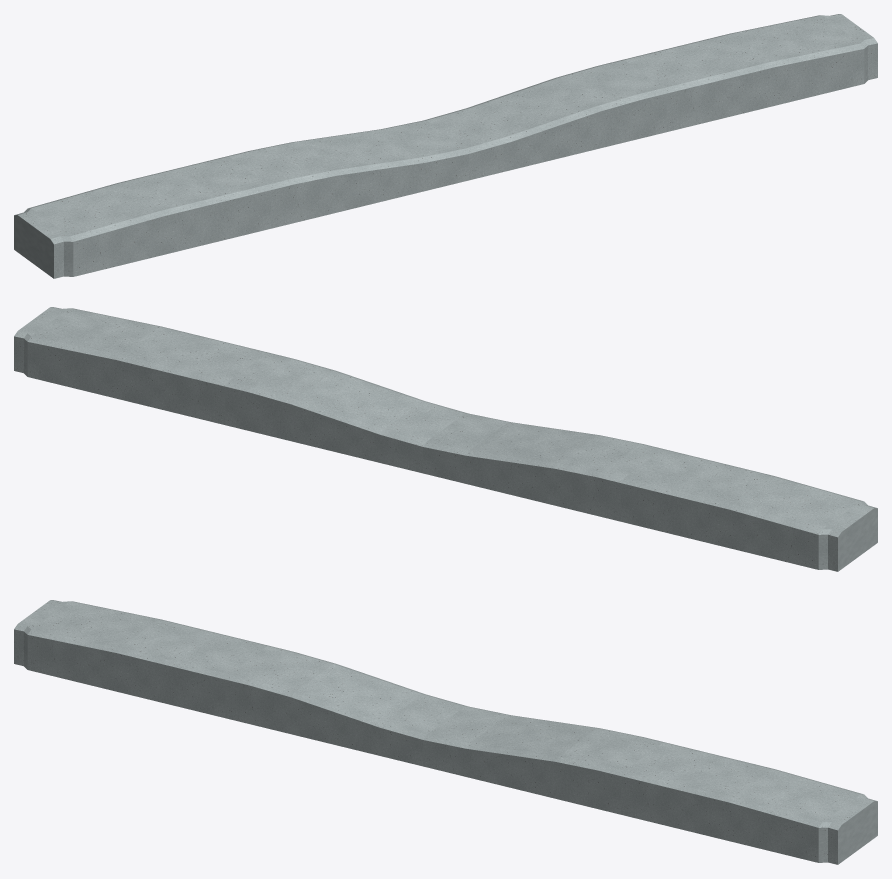
File: sleeper.obj
The picture shows the model from 3 angles, top to bottom: view 1: azimuth 30°, elevation 25°; view 2: azimuth 150°, elevation 25°; view 3: azimuth 330°, elevation 25°; orthographic projection.
Parts seen in each view (by area): view 1: sleeper; view 2: sleeper; view 3: sleeper.
Part boxes in pixels (x1=…): sleeper: x1=14, y1=14, x2=877, y2=278; sleeper: x1=14, y1=307, x2=877, y2=571; sleeper: x1=14, y1=600, x2=877, y2=864.
Size of the model in its own units: 2.5 by 0.12 by 0.24.
1 material, 1 textured.
